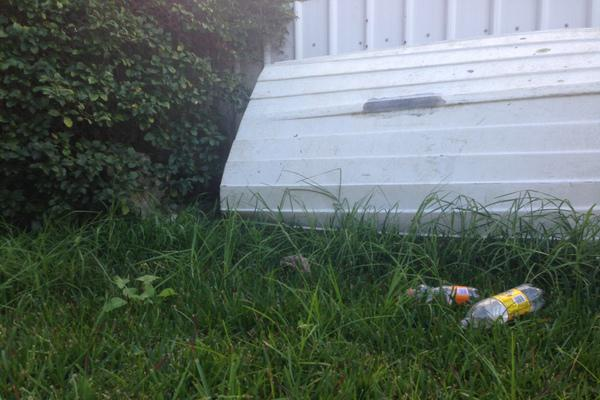Plastic Bottle: (459, 283, 544, 331), (406, 284, 479, 308)
